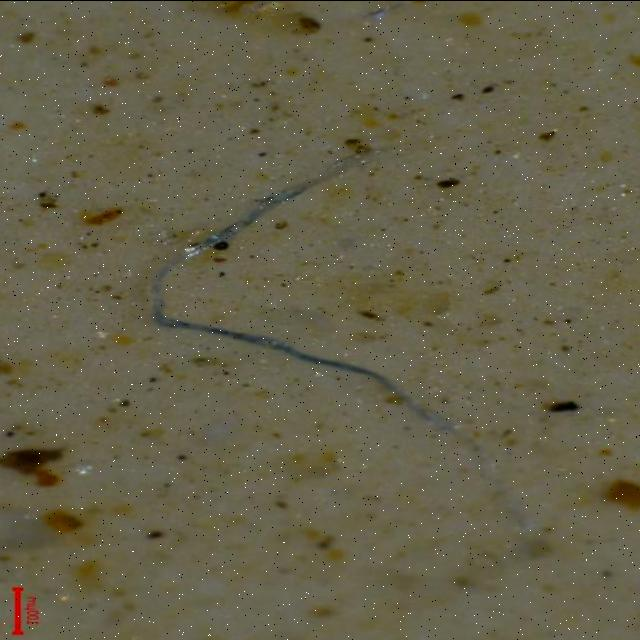Fibre: (140, 136, 530, 406)
